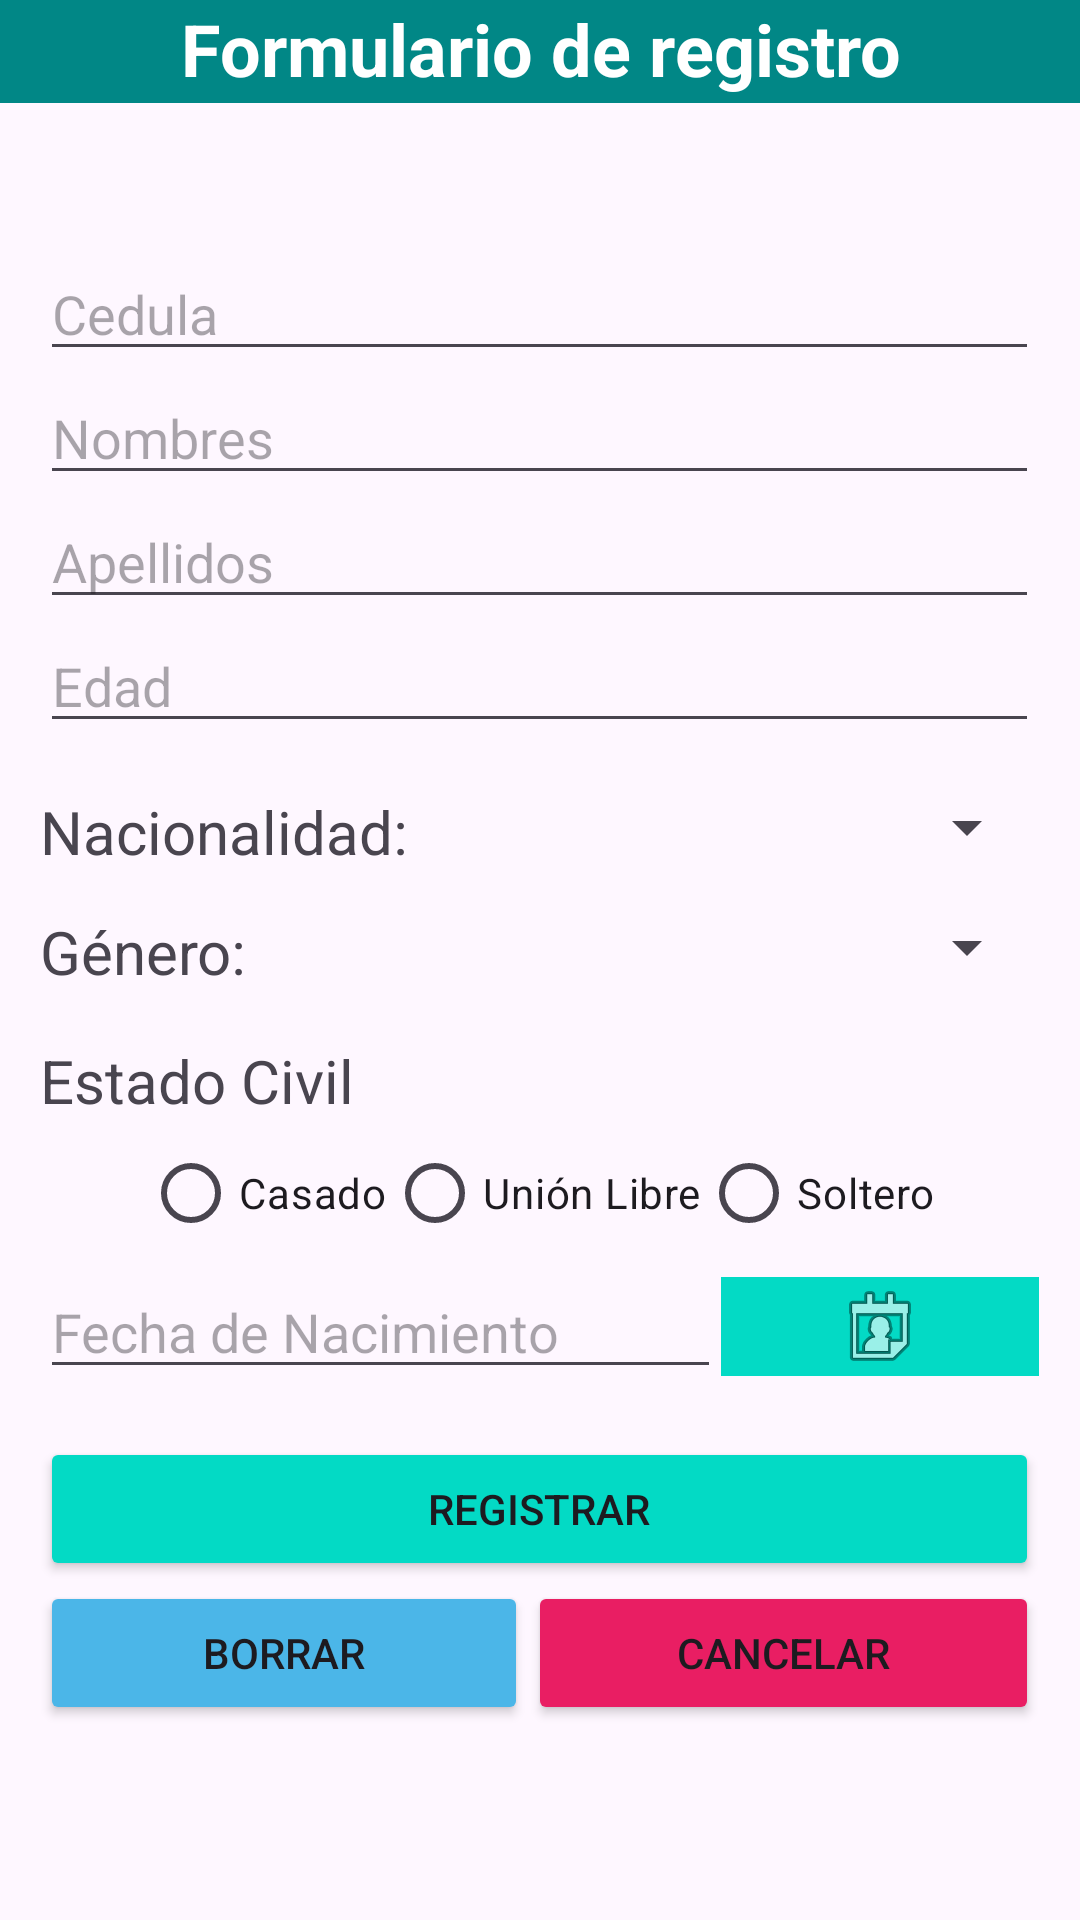

Screen size 1080px x 1920px. Icon name, then its center in pixels as point (x, y):
calendar: point (880, 1326)
